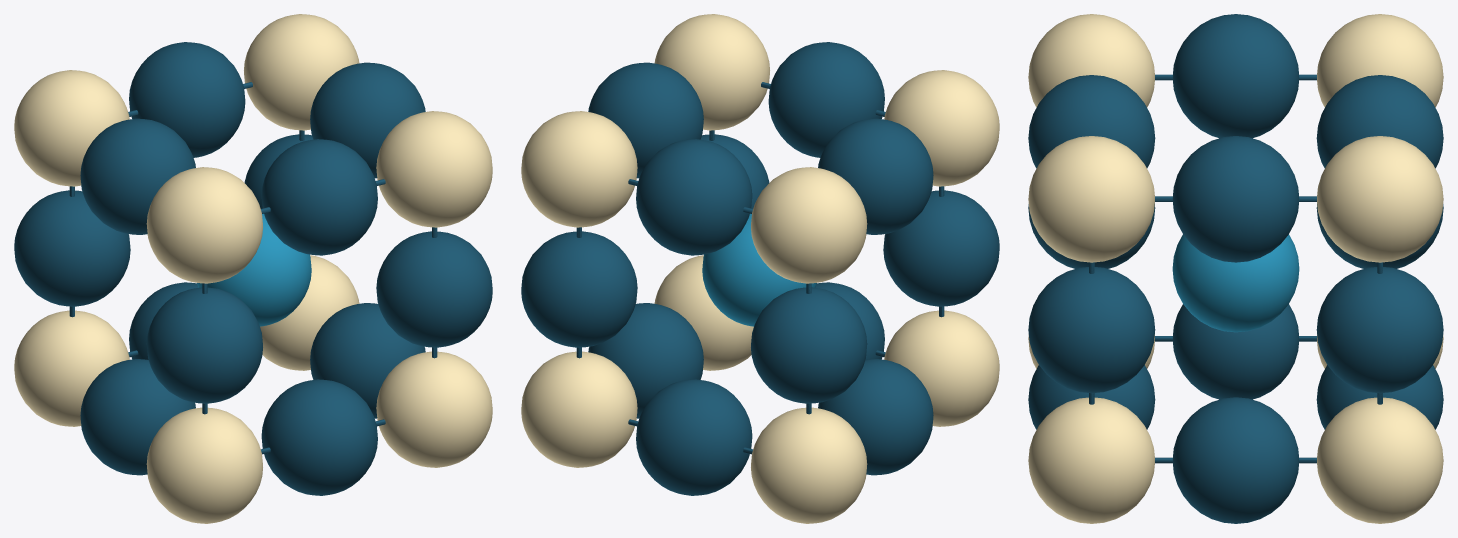
Rendered from jingbao2-D.gltf.
3 views of the same model, side by side, from view 1: azimuth 30°, elevation 25°; view 2: azimuth 150°, elevation 25°; view 3: azimuth 270°, elevation 25° (orthographic). The views are drawn at different scales.
Parts seen in each view (by area): view 1: 1, 2, 3; view 2: 1, 2, 3; view 3: 1, 2, 3.
Boxes of the visible parts, box(x1,y1,x2,y2) form: 1: box(14, 42, 492, 495); 2: box(14, 14, 492, 523); 3: box(197, 213, 311, 326); 1: box(521, 42, 999, 495); 2: box(521, 14, 999, 523); 3: box(702, 213, 816, 326); 1: box(1028, 14, 1443, 523); 2: box(1028, 14, 1443, 523); 3: box(1172, 234, 1299, 332).
Size of the model in its own units: 72 by 72 by 72.
Materials: 3 (3 with a texture image).
